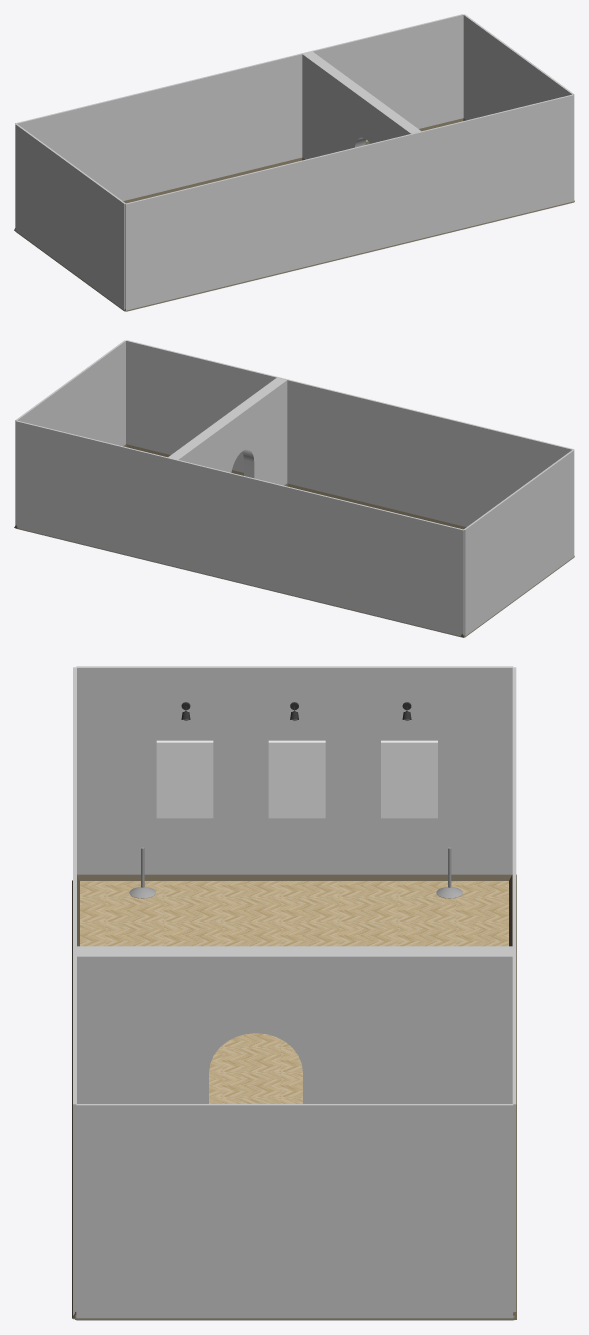
Rendered from ArtGallery.fbx.
3 views of the same model, one above another, from view 1: azimuth 30°, elevation 25°; view 2: azimuth 150°, elevation 25°; view 3: azimuth 270°, elevation 25° (orthographic). The views are drawn at different scales.
Visible parts, largest first — view 1: pCube7, pCube2, pCube4, pCube11, pCube15, pPrism8, pPrism7; view 2: pCube2, pCube7, pCube4, pCube11, pCube15, pPrism7, pPrism8; view 3: pCube15, pCube4, pCube11, pCube25, pCube13, pCube12, pCube14, pPrism1, pCube2, pCube7, pPrism2.
Part boxes in pixels (x1,y1,x2,y2): pCube7: (125, 94, 573, 311); pCube2: (15, 14, 463, 200); pCube4: (15, 123, 125, 311); pCube11: (302, 51, 420, 159); pCube15: (463, 14, 574, 199); pPrism8: (123, 118, 463, 203); pPrism7: (126, 200, 574, 311); pCube2: (15, 420, 464, 637); pCube7: (126, 340, 574, 527); pCube4: (464, 449, 574, 637); pCube11: (168, 377, 287, 485); pCube15: (15, 340, 125, 525); pPrism7: (126, 444, 466, 529); pPrism8: (18, 528, 460, 636); pCube15: (76, 1104, 513, 1320); pCube4: (76, 666, 513, 874); pCube11: (77, 946, 514, 1103); pCube25: (80, 881, 514, 1320); pCube13: (268, 740, 325, 818); pCube12: (156, 740, 213, 818); pCube14: (381, 740, 437, 818); pPrism1: (77, 874, 516, 883); pCube2: (512, 667, 516, 1311); pCube7: (73, 667, 76, 1319); pPrism2: (75, 1310, 516, 1319).
Bounding box in the file's own units: 26.6 × 6.07 × 11.38.
